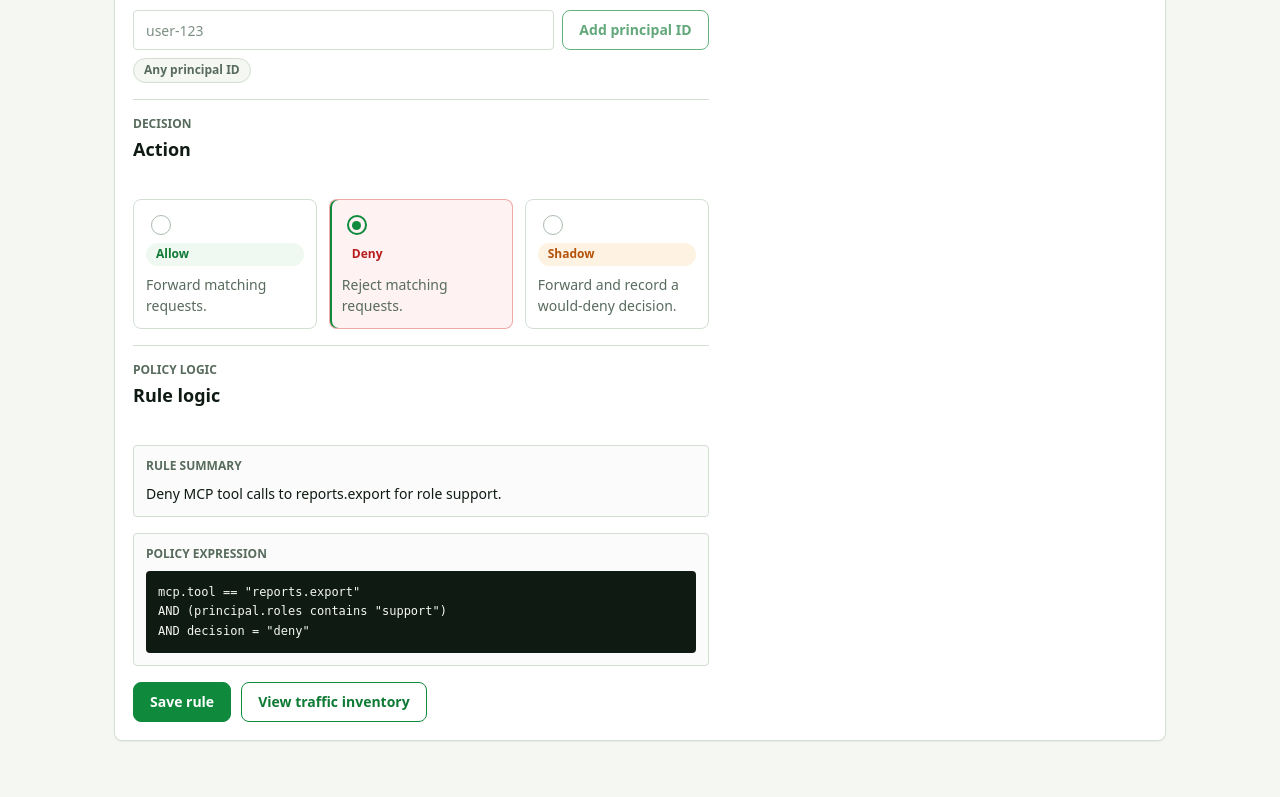
Test: RuleEditor › saves a tool-name prefilled rule without HTTP method or path matchers
(page scrolled)
Click the button "Save rule" at (182, 702), box [133,682,231,722]
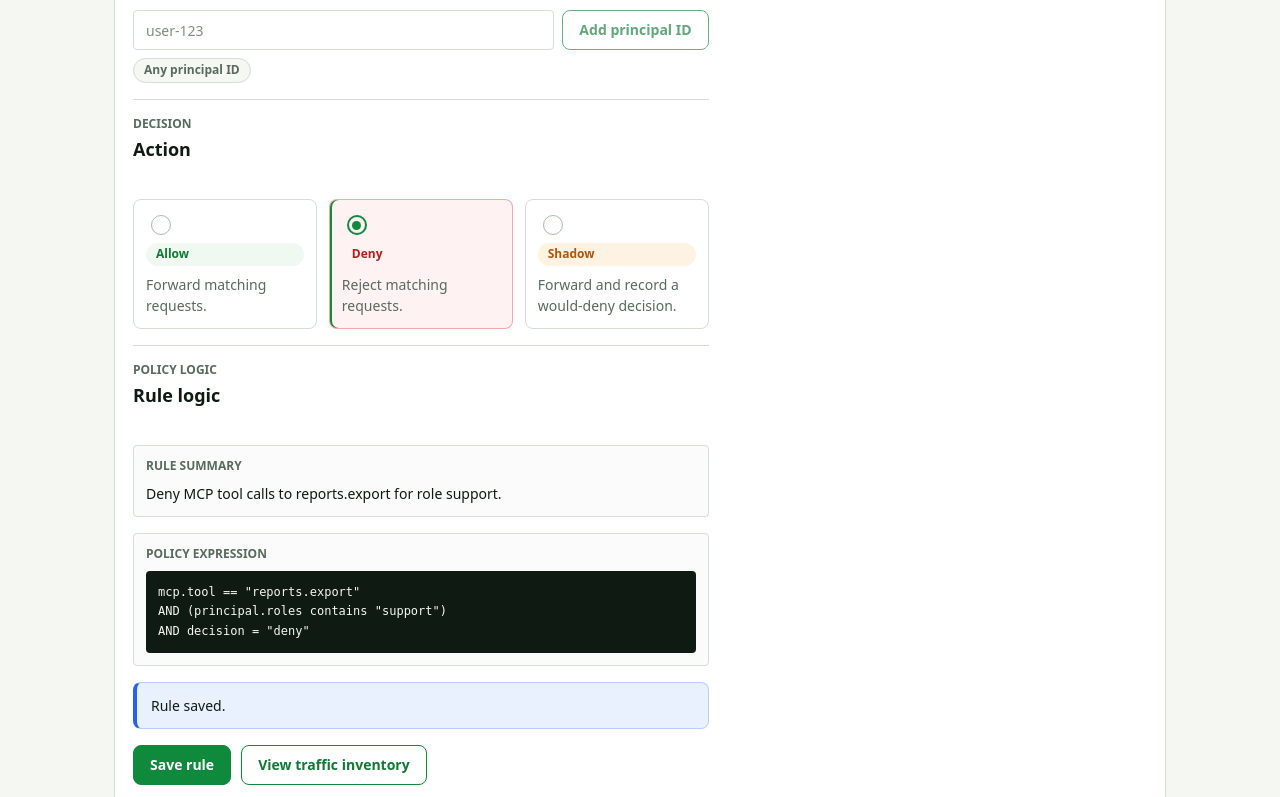
Expected: the text "Rule saved." is shown, [133,682,709,729]
